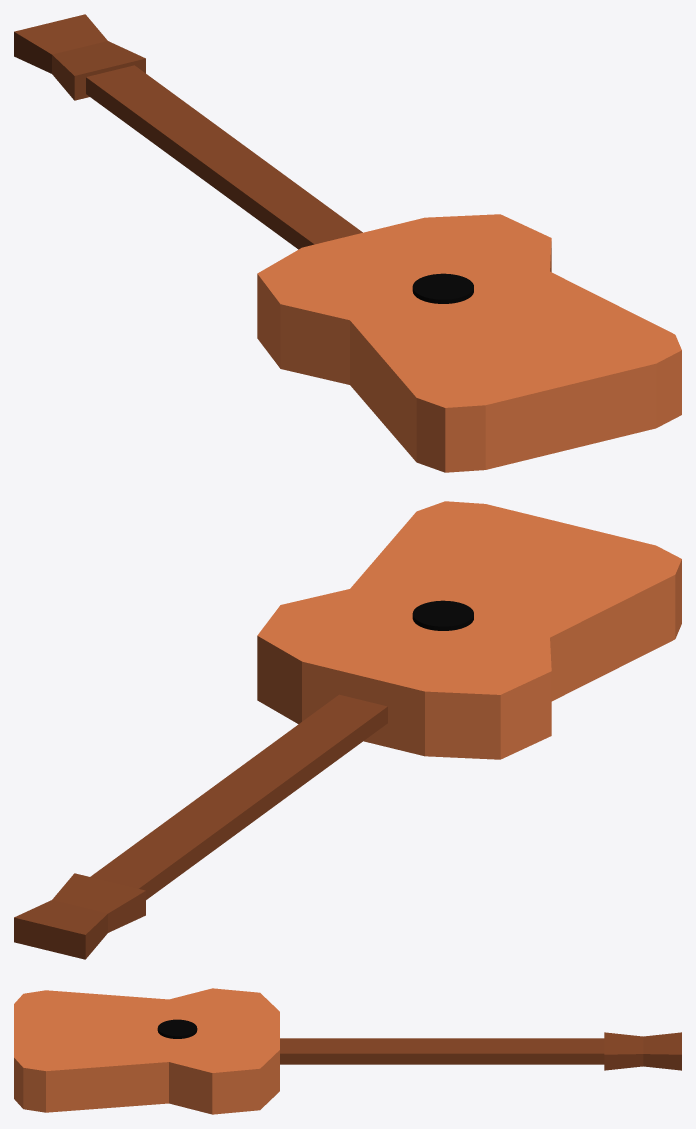
Rendered from Guitar.fbx.
3 views of the same model, one above another, from view 1: azimuth 30°, elevation 25°; view 2: azimuth 150°, elevation 25°; view 3: azimuth 270°, elevation 25° (orthographic). The views are drawn at different scales.
Visible parts, largest first — view 1: GuitarBase, GuitarHandle; view 2: GuitarBase, GuitarHandle; view 3: GuitarBase, GuitarHandle.
Part boxes in pixels (bbox=[...]): GuitarBase: bbox=[257, 214, 681, 472]; GuitarHandle: bbox=[14, 14, 362, 249]; GuitarBase: bbox=[257, 501, 681, 759]; GuitarHandle: bbox=[14, 694, 387, 959]; GuitarBase: bbox=[14, 988, 279, 1114]; GuitarHandle: bbox=[280, 1032, 681, 1070].
Size of the model in its own units: 227 by 55.26 by 755.
